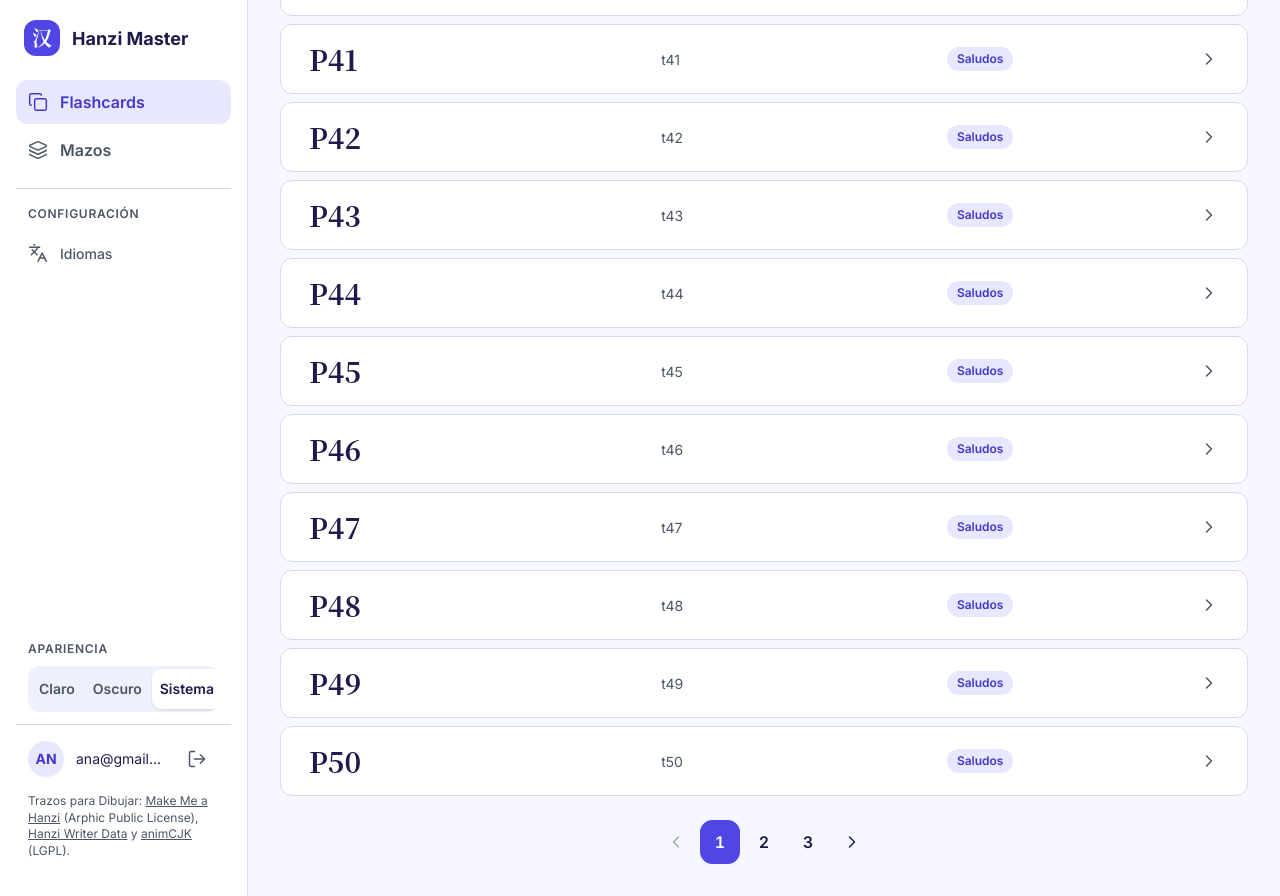
it: MJ2 · Paginación en los listados › MJ2-6 las flashcards se paginan de a 50: la página 2 muestra el resto y refleja ?pagina= en la URL
(page scrolled)
Click the button named "Página 3": (808, 842) [788,820,828,864]
(page scrolled)
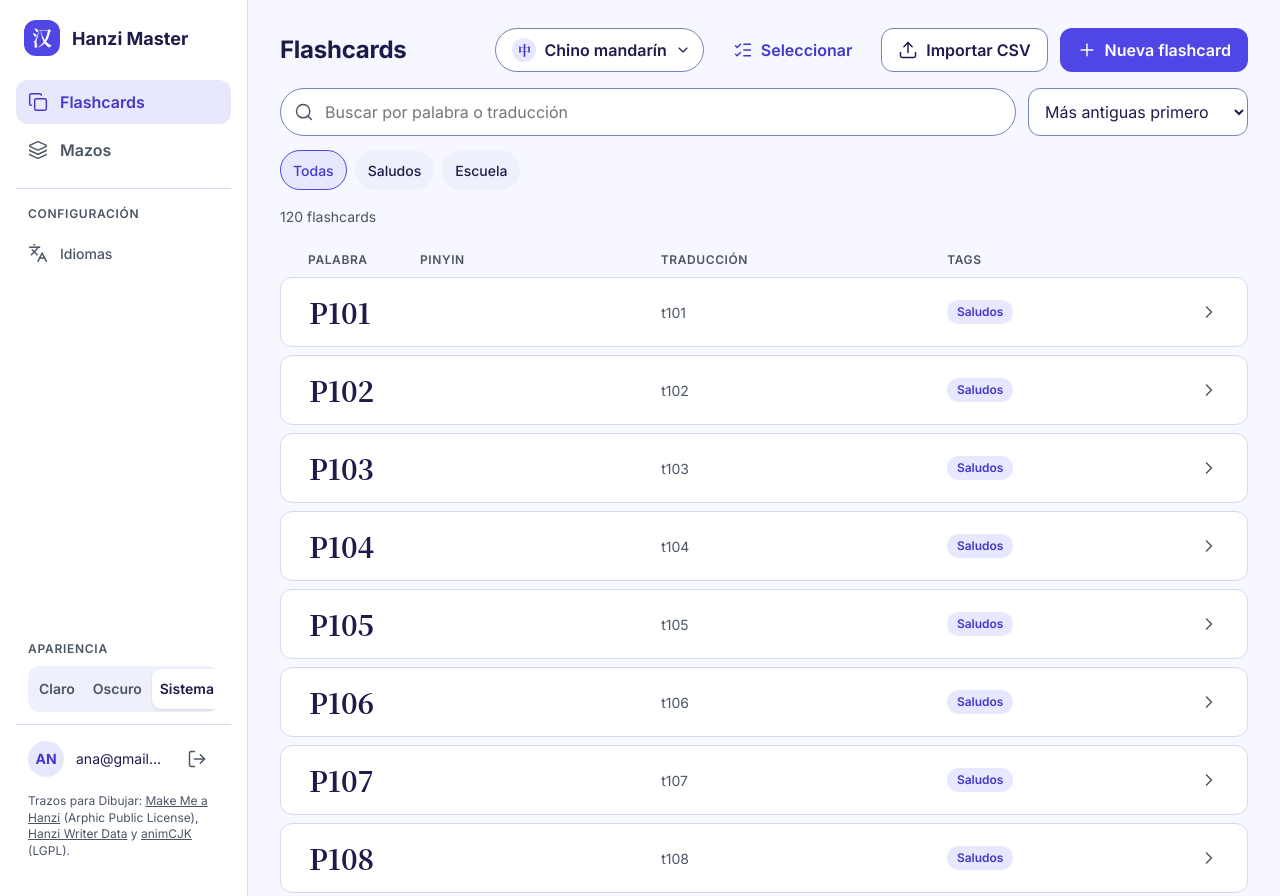
Check: the text with class "lead" reads "P101", box [309,292,370,332]
